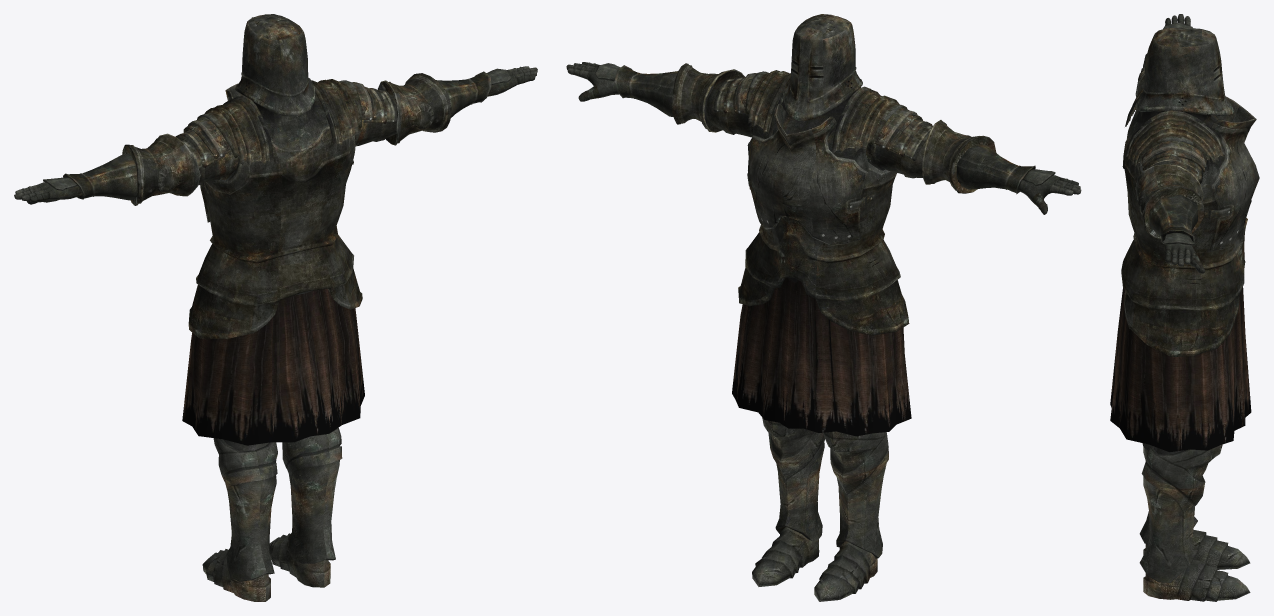
The model's file is human_fullplate.fbx.
The picture shows the model from 3 angles, left to right: view 1: azimuth 30°, elevation 25°; view 2: azimuth 150°, elevation 25°; view 3: azimuth 270°, elevation 25°; orthographic projection. The views are drawn at different scales.
Parts seen in each view (by area): view 1: polySurface8, polySurface9, hmm50:mesh02, polySurface7, hmm50:mesh01, hmm50:mesh03; view 2: polySurface8, polySurface9, hmm50:mesh02, polySurface7, hmm50:mesh03, hmm50:mesh01; view 3: polySurface8, polySurface9, hmm50:mesh02, polySurface7, hmm50:mesh01, hmm50:mesh03.
Part boxes in pixels (bbox=[...]): polySurface8: bbox=[188, 83, 362, 338]; polySurface9: bbox=[182, 94, 396, 445]; hmm50:mesh02: bbox=[202, 427, 342, 601]; polySurface7: bbox=[122, 73, 451, 205]; hmm50:mesh01: bbox=[235, 14, 315, 116]; hmm50:mesh03: bbox=[14, 66, 537, 204]; polySurface8: bbox=[738, 87, 909, 335]; polySurface9: bbox=[706, 82, 925, 436]; hmm50:mesh02: bbox=[752, 418, 888, 601]; polySurface7: bbox=[661, 63, 996, 210]; hmm50:mesh03: bbox=[566, 62, 1081, 214]; hmm50:mesh01: bbox=[783, 14, 862, 121]; polySurface8: bbox=[1121, 96, 1259, 356]; polySurface9: bbox=[1110, 169, 1251, 452]; hmm50:mesh02: bbox=[1139, 443, 1250, 601]; polySurface7: bbox=[1125, 53, 1230, 239]; hmm50:mesh01: bbox=[1135, 27, 1233, 116]; hmm50:mesh03: bbox=[1148, 14, 1205, 273].
Size of the model in its own units: 5.86 by 5.99 by 1.48.
